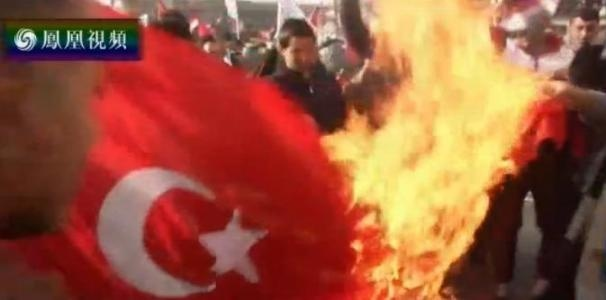fire: (320, 1, 559, 299)
